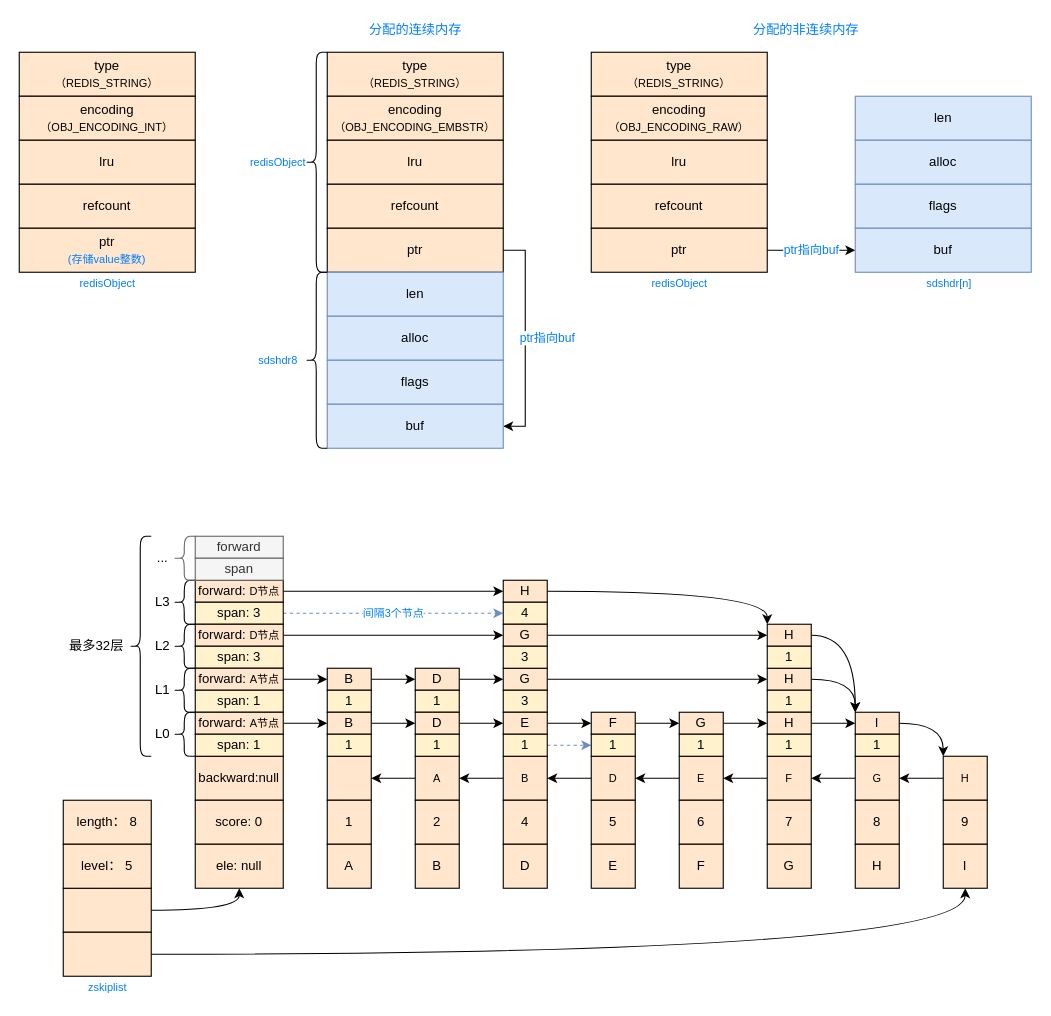
Image size: 1051x1016. Some labels were removed from this diagram. The shapes that lost their labels are listed below. From the top down, each one's box as (x1, y1, x2, y2) in pixels, then its label:
(326, 755, 371, 800): null
(62, 887, 151, 932): header
(62, 931, 151, 976): tail
